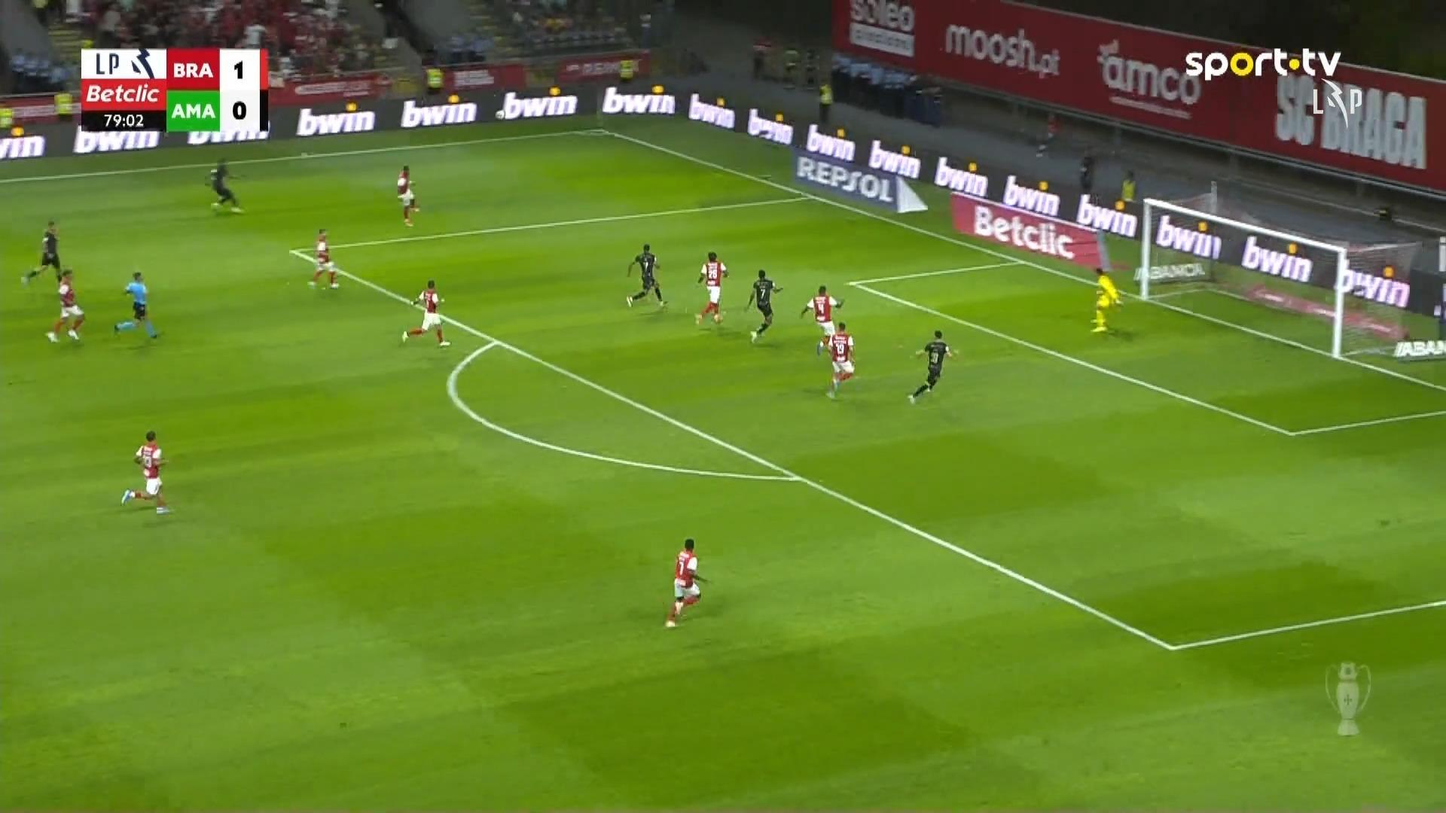goalkeeper: (1089, 266, 1121, 333)
player: (120, 429, 173, 514), (664, 537, 706, 628), (907, 329, 956, 404), (400, 279, 451, 348), (800, 284, 845, 355), (44, 267, 85, 343), (744, 268, 782, 344), (624, 242, 667, 309), (20, 220, 63, 287), (822, 321, 856, 400), (694, 251, 728, 325), (203, 157, 245, 214), (307, 228, 339, 289), (395, 164, 419, 227)
referee: (112, 270, 162, 340)
